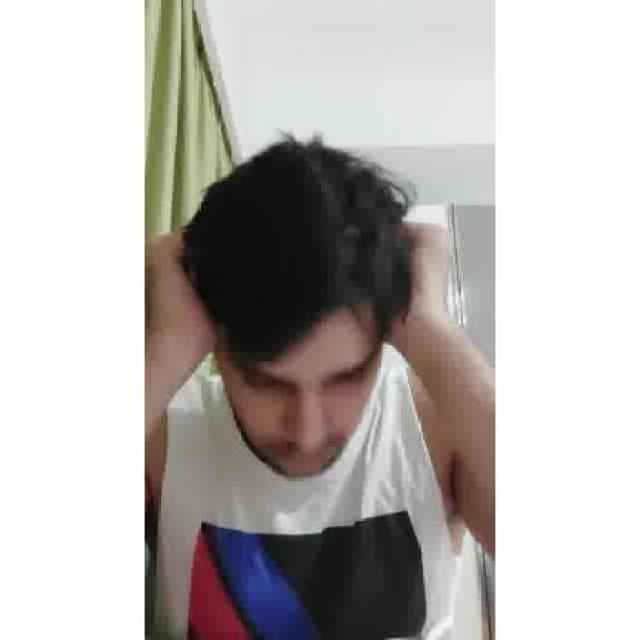inattentif: (209, 142, 391, 480)
